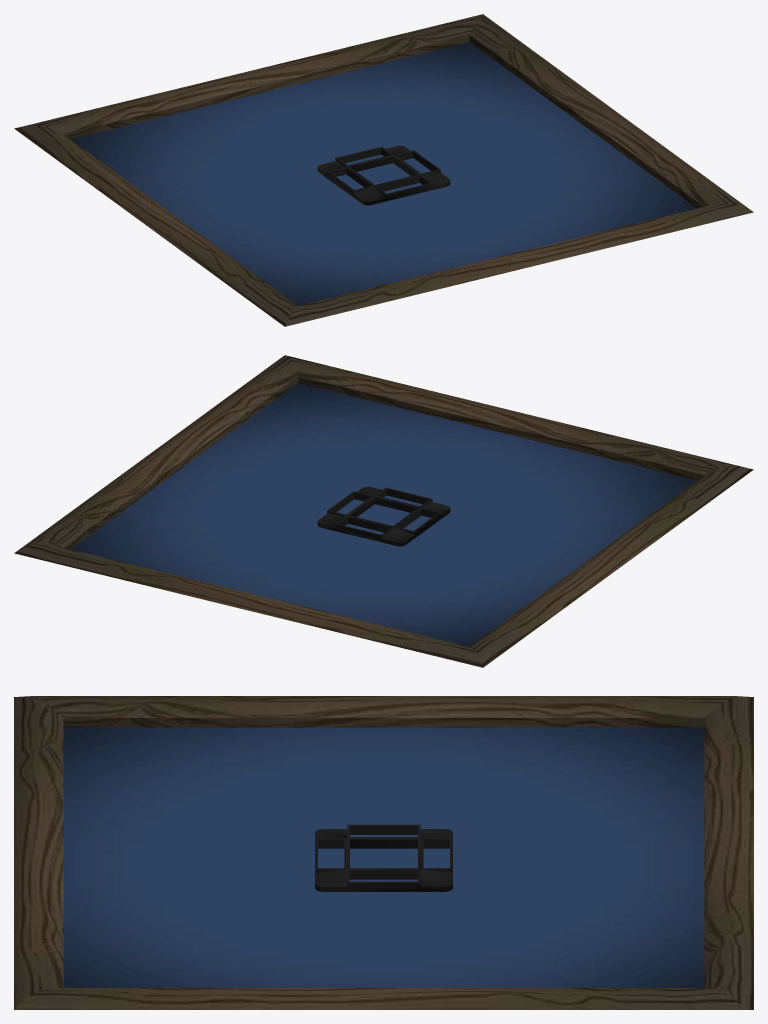
The model's file is table.glb.
The picture shows the model from 3 angles, top to bottom: view 1: azimuth 30°, elevation 25°; view 2: azimuth 150°, elevation 25°; view 3: azimuth 270°, elevation 25°; orthographic projection. The views are drawn at different scales.
Parts seen in each view (by area): view 1: Table; view 2: Table; view 3: Table.
Boxes of the visible parts, bbox=[...] form: Table: bbox=[14, 14, 753, 326]; Table: bbox=[14, 355, 753, 667]; Table: bbox=[14, 696, 753, 1009].
Bounding box in the file's own units: 0.8057 × 0.021 × 0.8057.
Materials: 2 (2 with a texture image).
